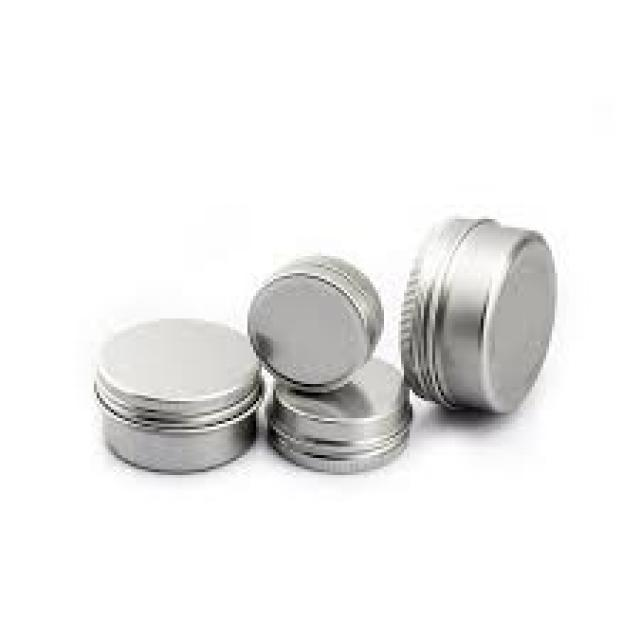recyclable: (398, 216, 556, 417), (94, 319, 266, 474), (247, 256, 385, 390), (266, 359, 416, 472)
